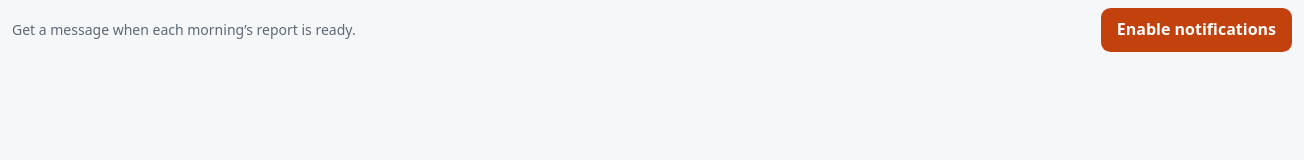
Test: the notifications control › offers to enable them, and asks the phone for permission only when it is tapped
This screenshot has width=1304, height=160.
Click the button "Enable notifications".
click(1196, 30)  # box [1101, 8, 1292, 52]
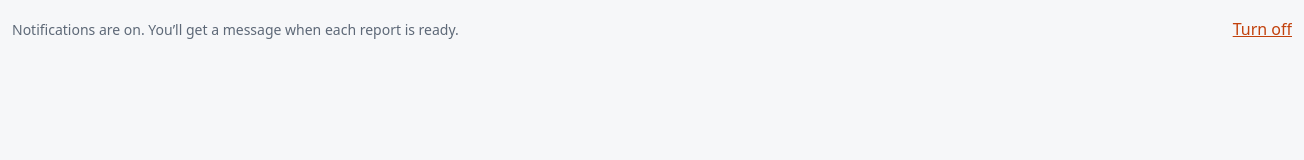
Now the button "Turn off" is shown, box [1233, 8, 1292, 52]
Now the text "Notifications are on" is shown, box [12, 20, 459, 39]
